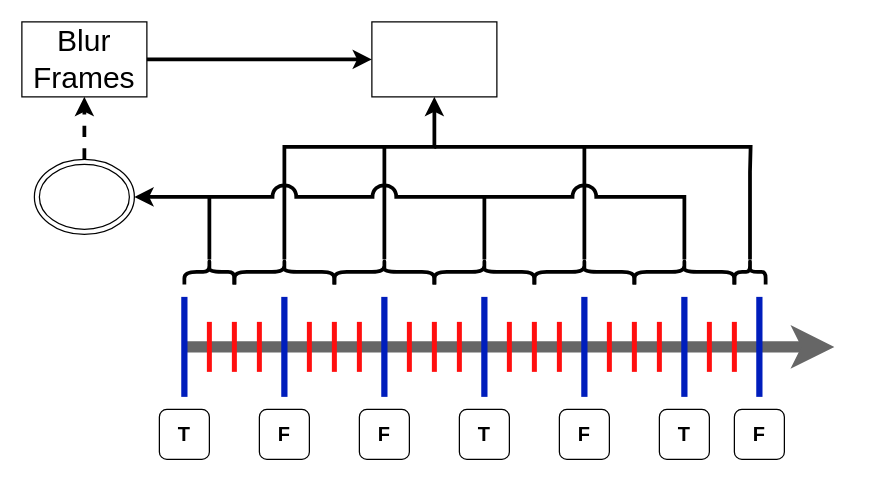
The diagram is 871 pixels wide and 481 high, and some of its shapes have lost their labels. The shapes that lost their labels are listed below. From the top down, each one's centre as x and y in pixels, then its label:
At [434,59]: "Write frame".
At [83,196]: "Yolo".
